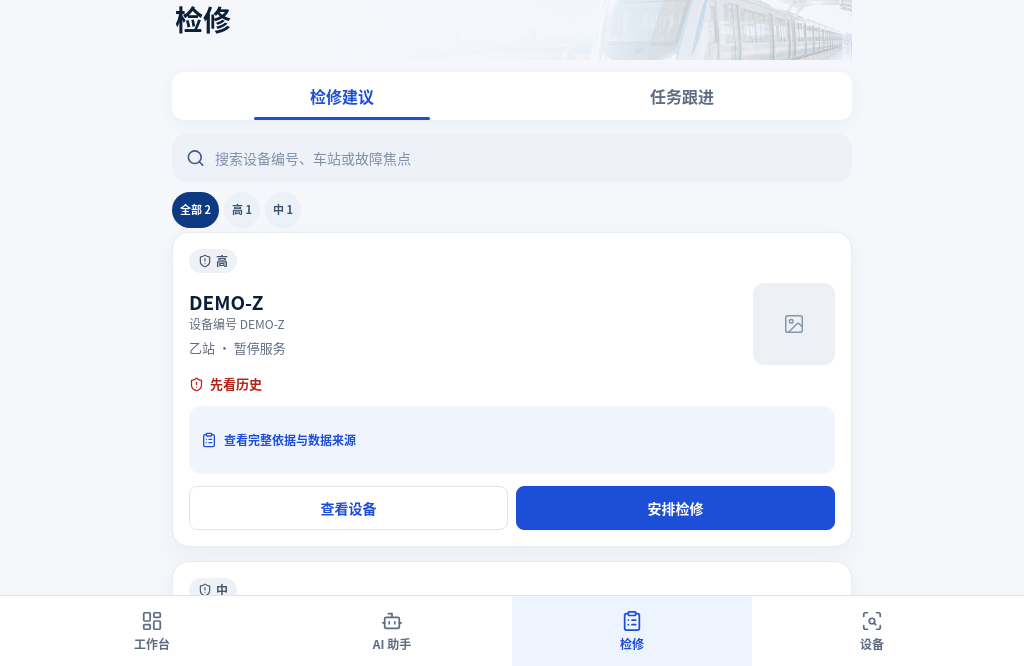
Test: explains a task transition conflict with the feedback next step
The image size is (1024, 666).
Click the button "安排检修" at (676, 508), box [516,486,835,530]
(page scrolled)
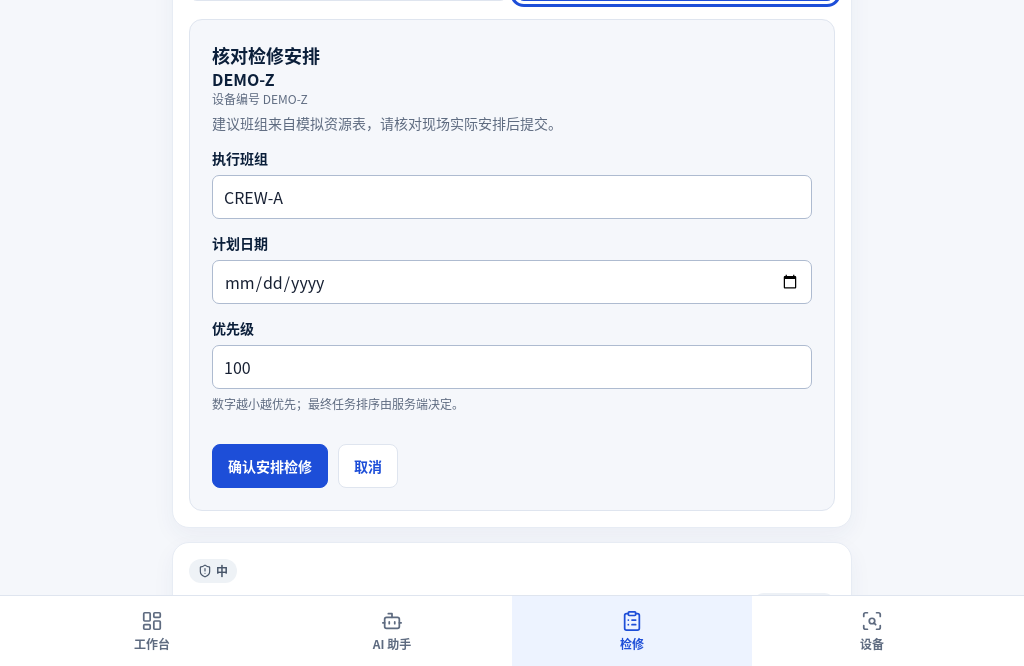
Type "2026-11-03" into the date field labelled "计划日期" at (512, 282), box [212,260,812,304]
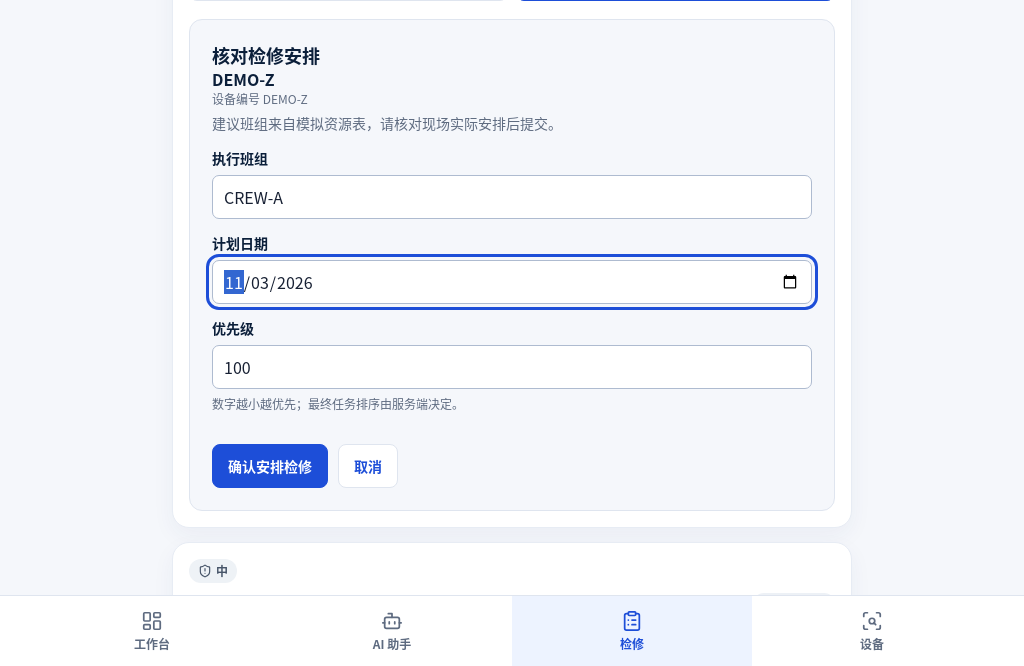
Click the button "确认安排检修" at (270, 466), box [212,444,328,488]
(page scrolled)
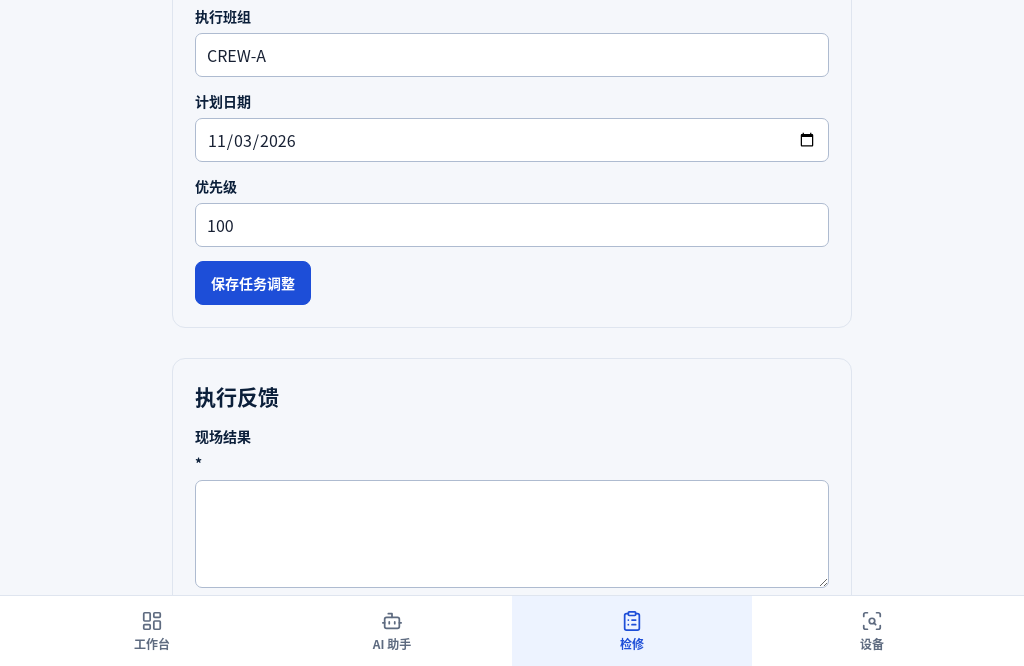
Click the button "保存任务调整" at (253, 283), box [195,261,311,305]
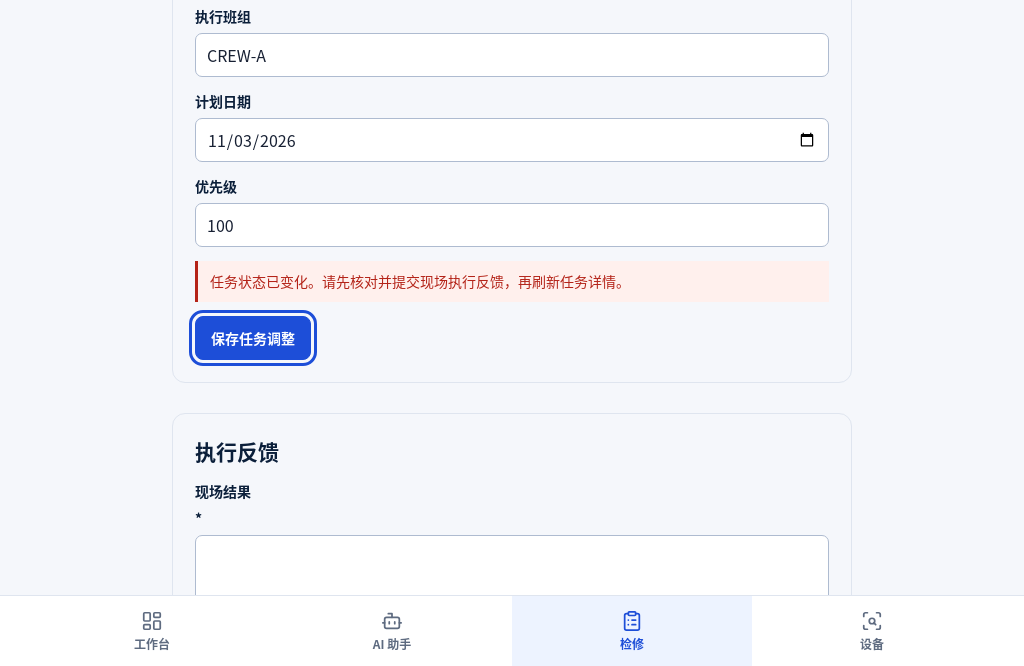
Expected: the text "任务状态已变化。请先核对并提交现场执行反馈，再刷新任务详情。" is shown, [195,261,829,302]
